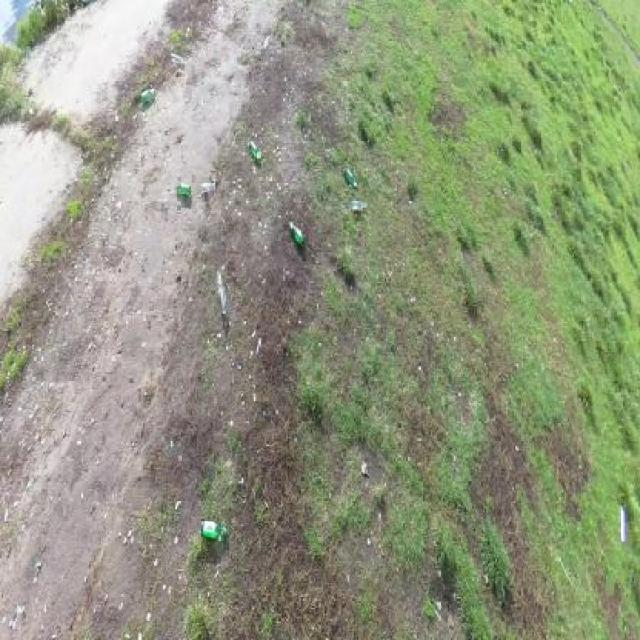Garbage: (199, 518, 233, 539), (217, 270, 229, 314), (289, 217, 304, 246), (617, 500, 626, 544), (248, 138, 262, 162), (140, 88, 157, 106), (344, 167, 359, 186), (174, 184, 192, 198), (351, 199, 367, 212), (200, 183, 216, 193)
